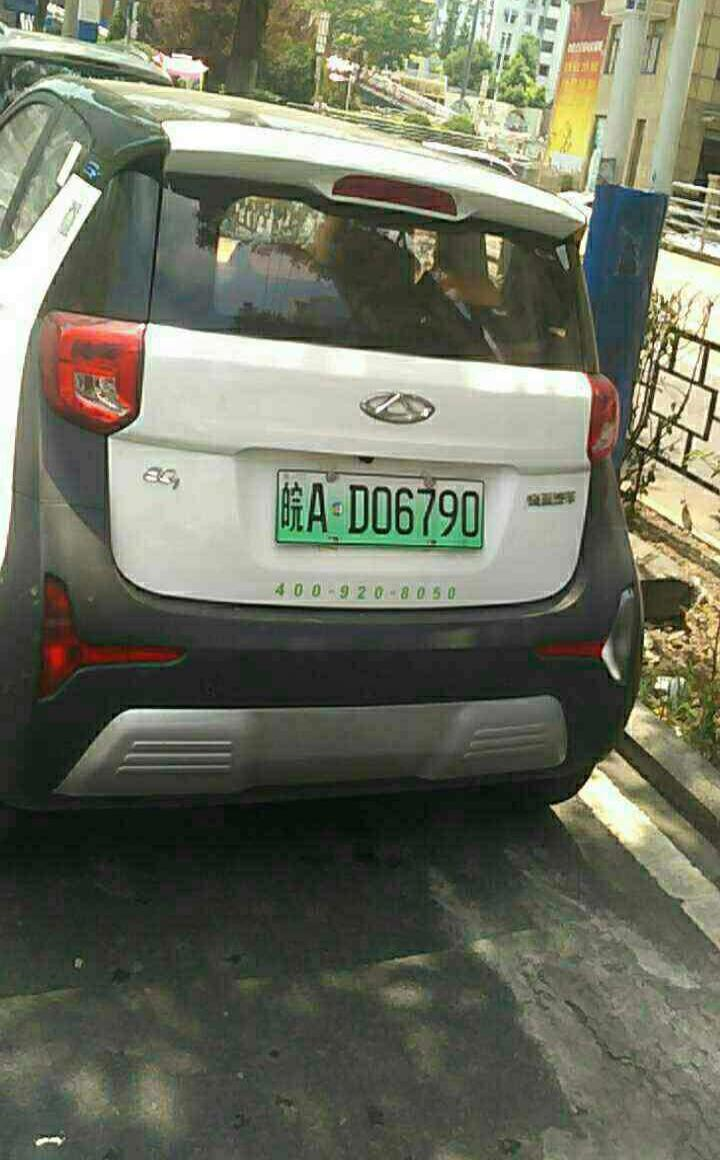car_id: (276, 471, 491, 551)
